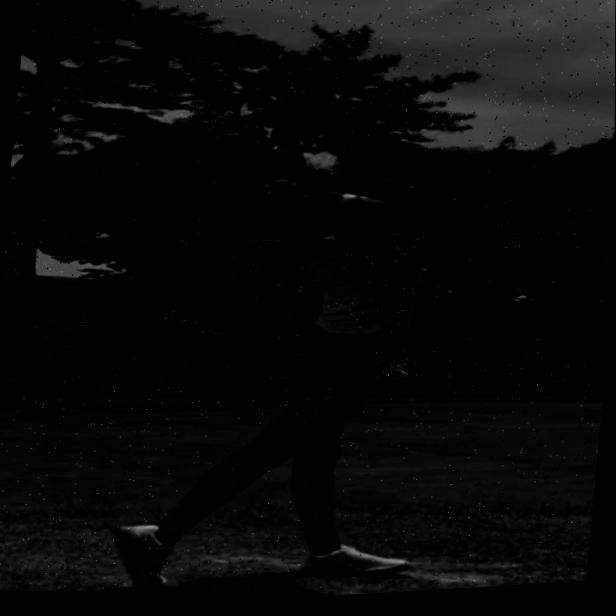ClubHead: (336, 195, 398, 242)
